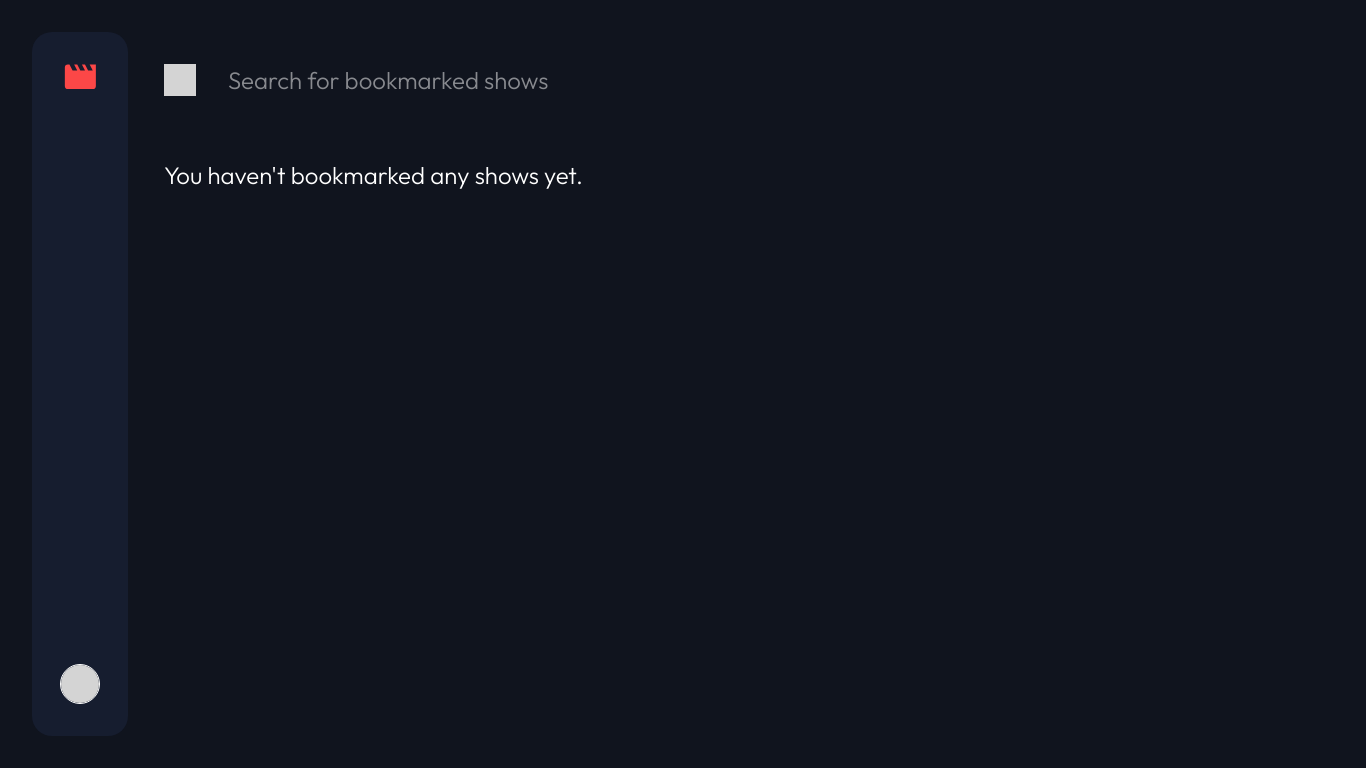
Test: Bookmarked page search › returns zero results when nothing is bookmarked
Check: the text "You haven't bookmarked any shows yet." is shown, box [164,160,583,190]
Step 1. Type "a" into the search field → x=779, y=80, box [228,64,1330,96]
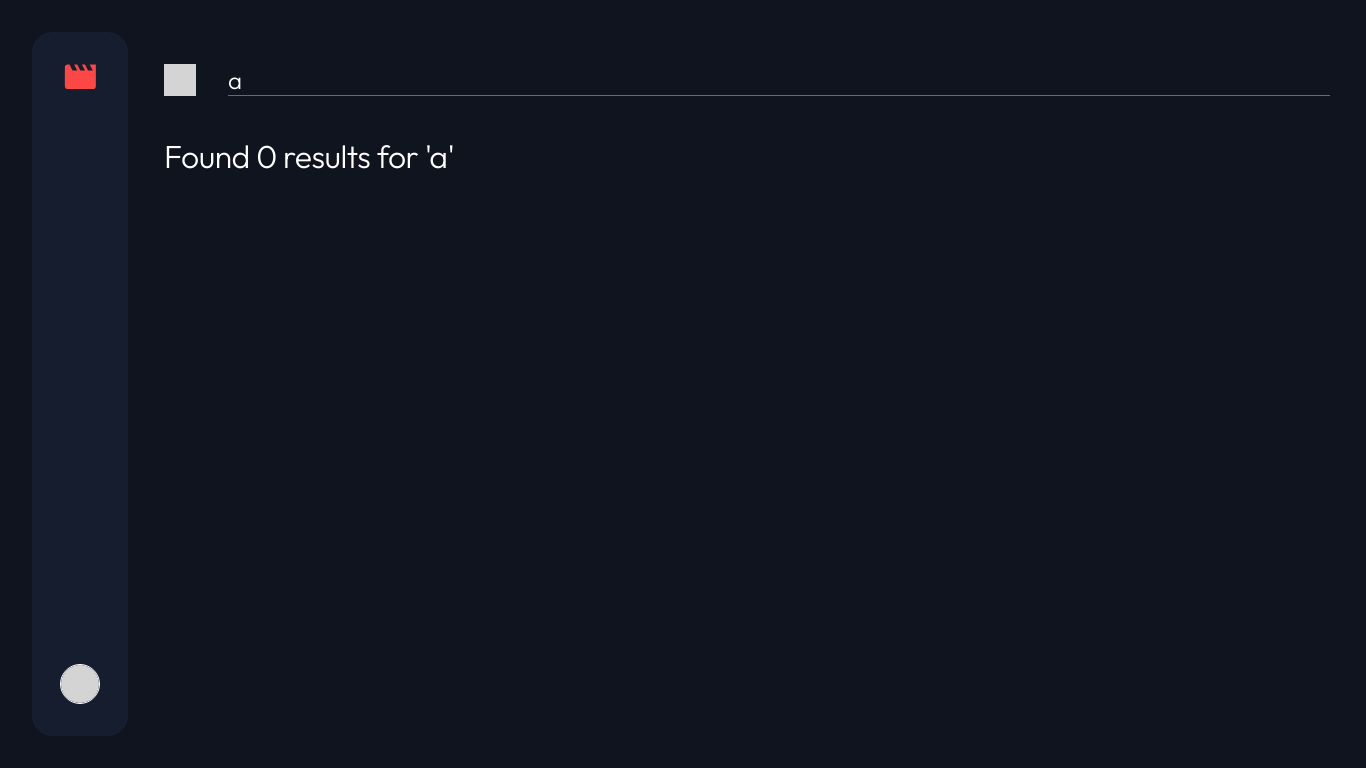
Check: the heading "Found 0 results for 'a'" is shown, box [164,136,454,176]
